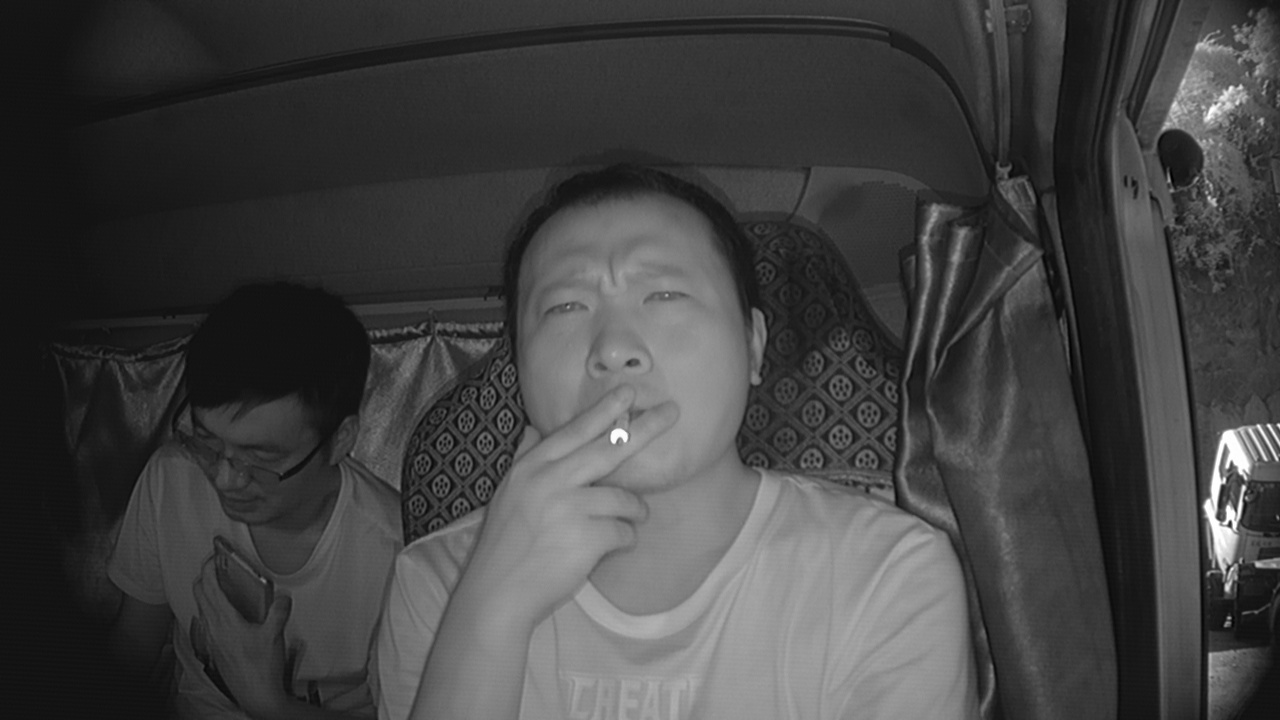hand: (495, 399, 664, 605)
